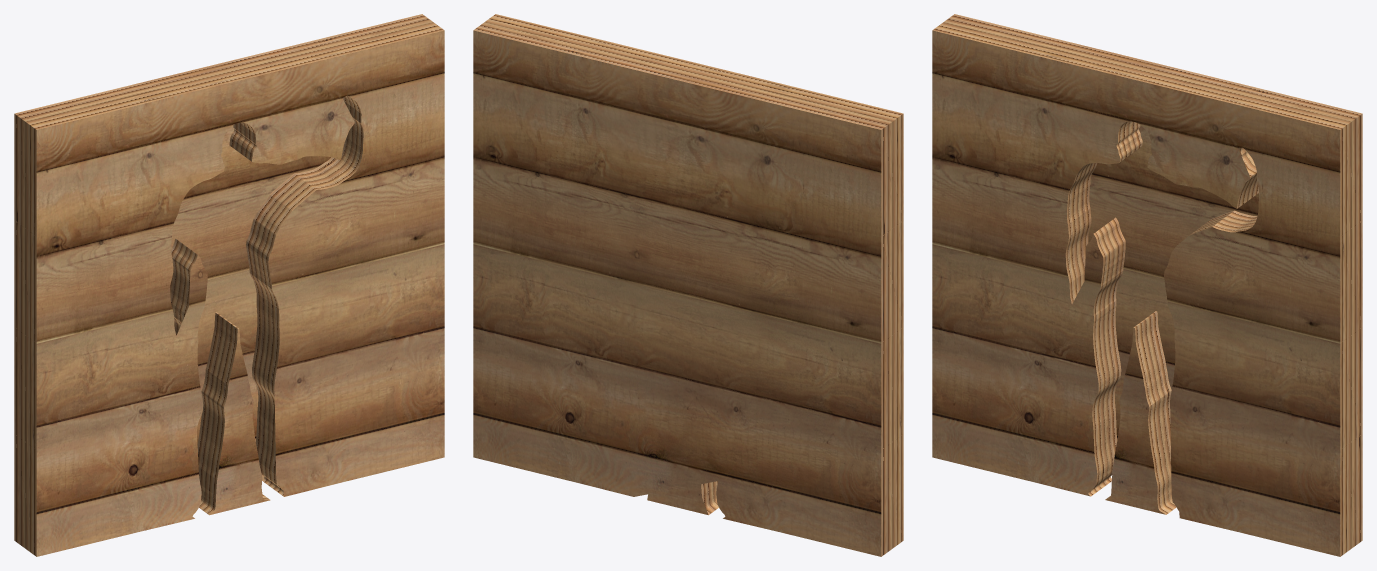
The model's file is single bicept flex.FBX.
The picture shows the model from 3 angles, left to right: view 1: azimuth 30°, elevation 25°; view 2: azimuth 150°, elevation 25°; view 3: azimuth 330°, elevation 25°; orthographic projection.
Parts seen in each view (by area): view 1: Object001; view 2: Object001; view 3: Object001.
Part boxes in pixels (x1=…): Object001: x1=14, y1=14, x2=444, y2=556; Object001: x1=473, y1=14, x2=903, y2=556; Object001: x1=932, y1=14, x2=1362, y2=556.
Bounding box in the file's own units: 2 × 2 × 0.1904.
Materials: 1 (1 with a texture image).
